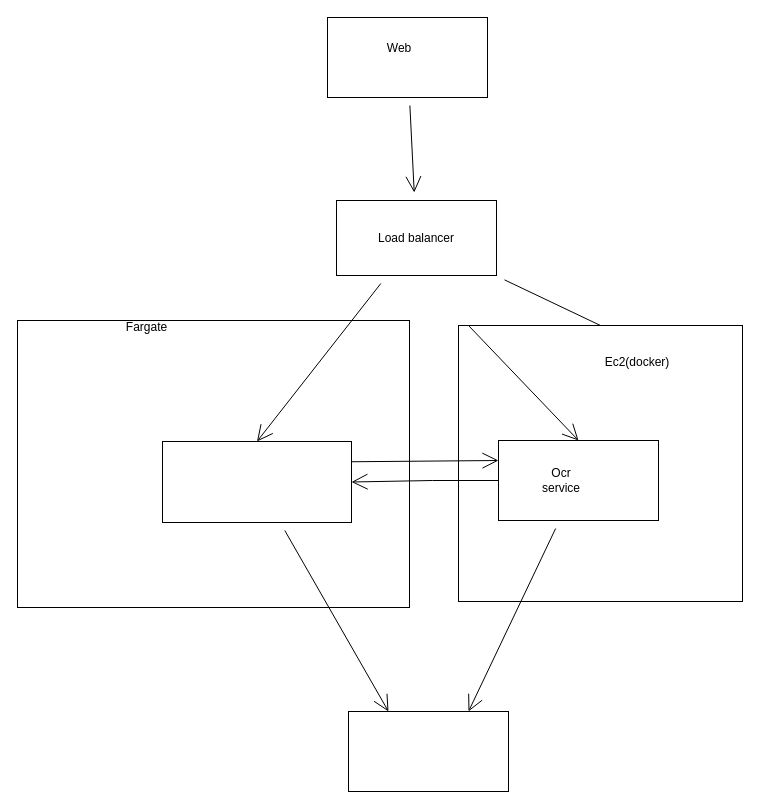
This 760x809 diagram has some shape labels left out. Each missing label, with the centre of its shape:
Database: [428,751]
Redactable backend: [257,481]
